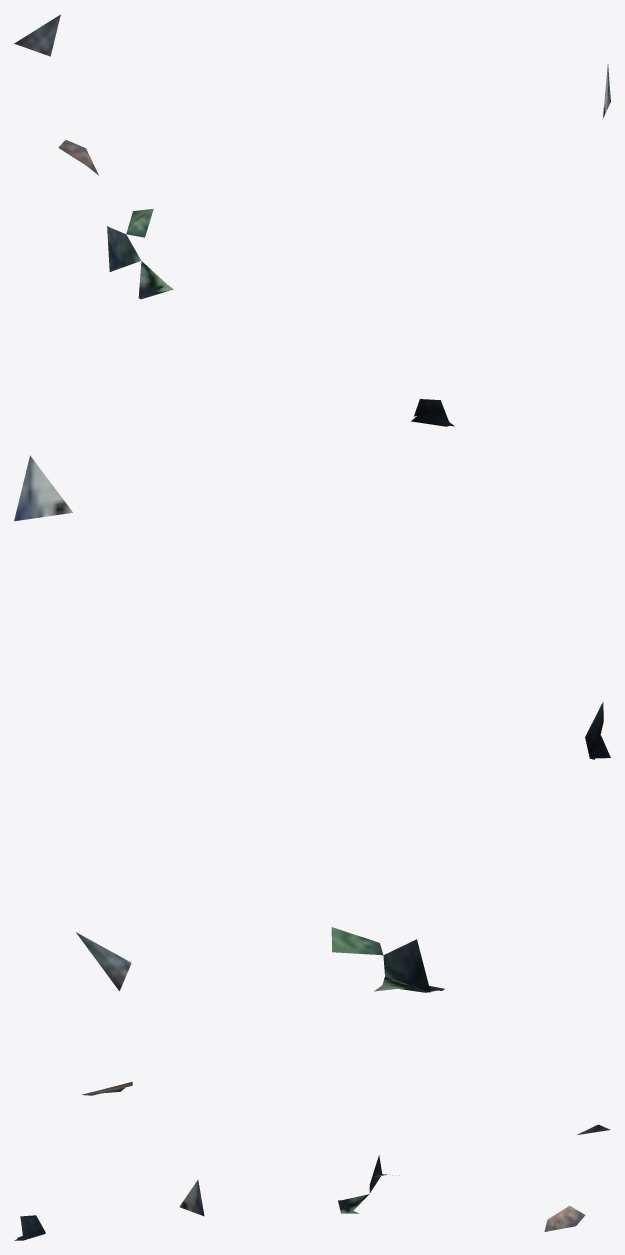
3 renders of one model, top to bottom at view 1: azimuth 30°, elevation 25°; view 2: azimuth 150°, elevation 25°; view 3: azimuth 270°, elevation 25°, orthographic. The views are drawn at different scales.
Visible parts, largest first — view 1: 30436272704370606505_1; view 2: 30436272704370606505_1; view 3: 30436272704370606505_1.
Boxes of the visible parts, x1,y1,x2,y2 form: 30436272704370606505_1: (14,14,610,426); 30436272704370606505_1: (14,455,610,1095); 30436272704370606505_1: (14,1124,610,1240).
Size of the model in its own units: 17.18 by 8.79 by 29.
Materials: 1 (1 with a texture image).
